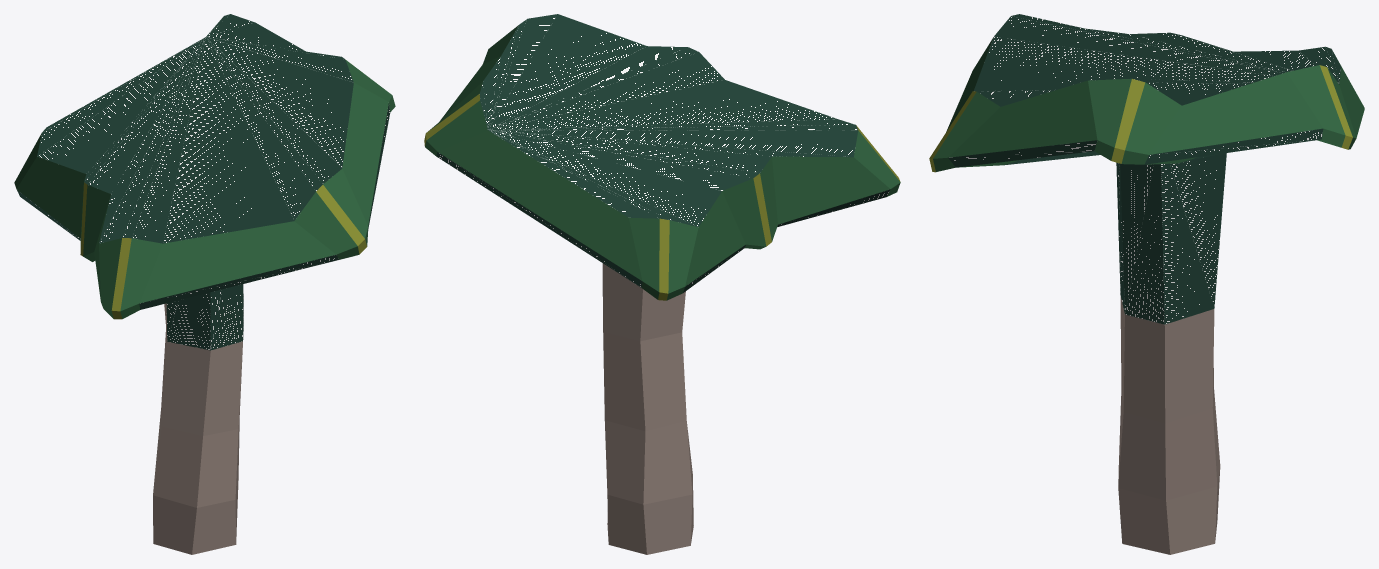
File: CoconutPalm01_DFS.fbx
3 views of the same model, side by side, from view 1: azimuth 30°, elevation 25°; view 2: azimuth 150°, elevation 25°; view 3: azimuth 270°, elevation 25° (orthographic). The views are drawn at different scales.
Parts seen in each view (by area): view 1: Palm1.001; view 2: Palm1.001; view 3: Palm1.001.
Boxes of the visible parts, box(x1,y1,x2,y2) form: Palm1.001: box(14, 14, 395, 554); Palm1.001: box(424, 14, 900, 554); Palm1.001: box(929, 14, 1364, 554).
Bounding box in the file's own units: 187 × 239 × 178.
